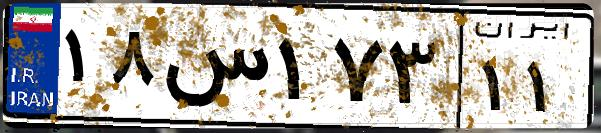1: (270, 28, 330, 110), (57, 26, 110, 100), (475, 38, 525, 113), (525, 38, 570, 115)
3: (385, 28, 445, 110)
7: (330, 28, 385, 110)
8: (110, 28, 158, 98)
س: (158, 20, 270, 120)
